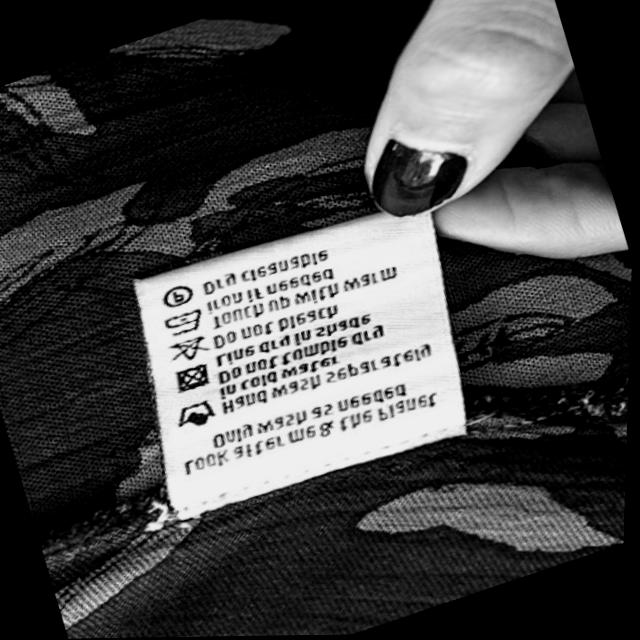DN_bleach: (174, 333, 210, 363)
DN_tumble_dry: (175, 360, 210, 391)
dry_clean_any_solvent_except_trichloroethylene: (163, 281, 198, 306)
hand_wash: (176, 398, 217, 429)
iron_low: (165, 308, 207, 340)
